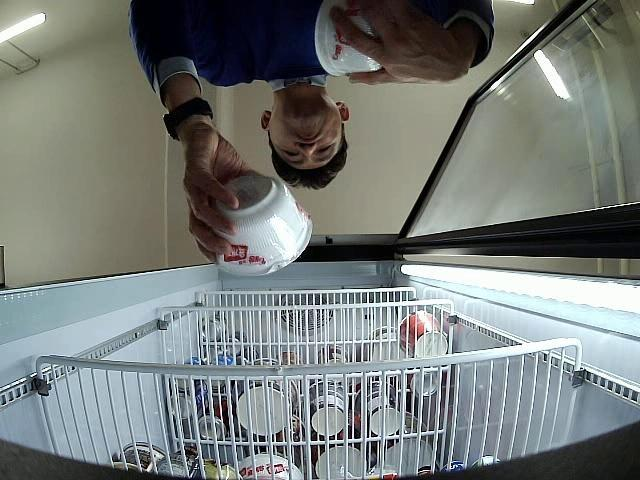09_yukGaeJang: (216, 172, 314, 278), (314, 0, 383, 75)
